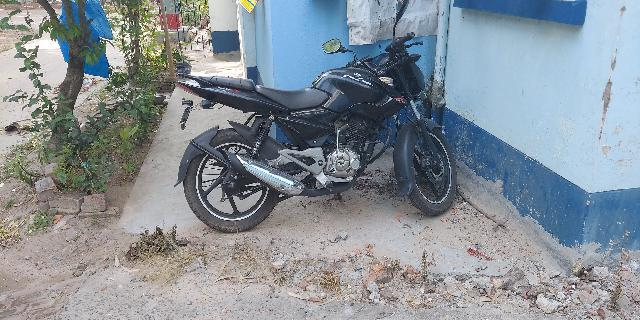Motorbike: (168, 14, 472, 232)
